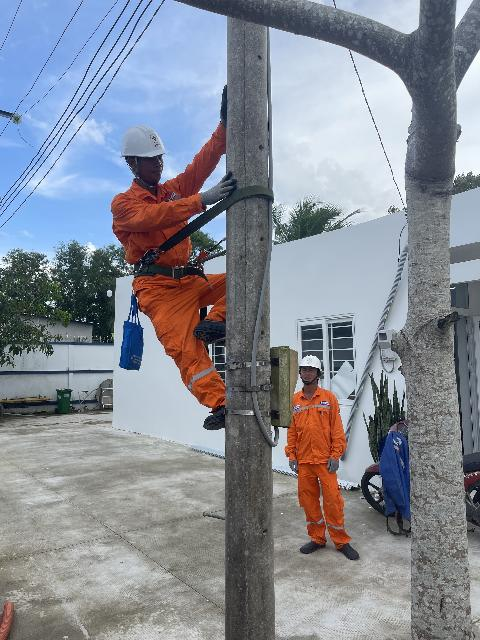gloves: (186, 177, 242, 208), (208, 79, 230, 130), (279, 456, 302, 477), (325, 453, 340, 475)
harness: (124, 240, 216, 298)
helmet: (110, 117, 171, 166), (292, 344, 327, 377)
shoes: (187, 306, 239, 345), (188, 398, 246, 427), (293, 532, 325, 559), (334, 543, 360, 567)
